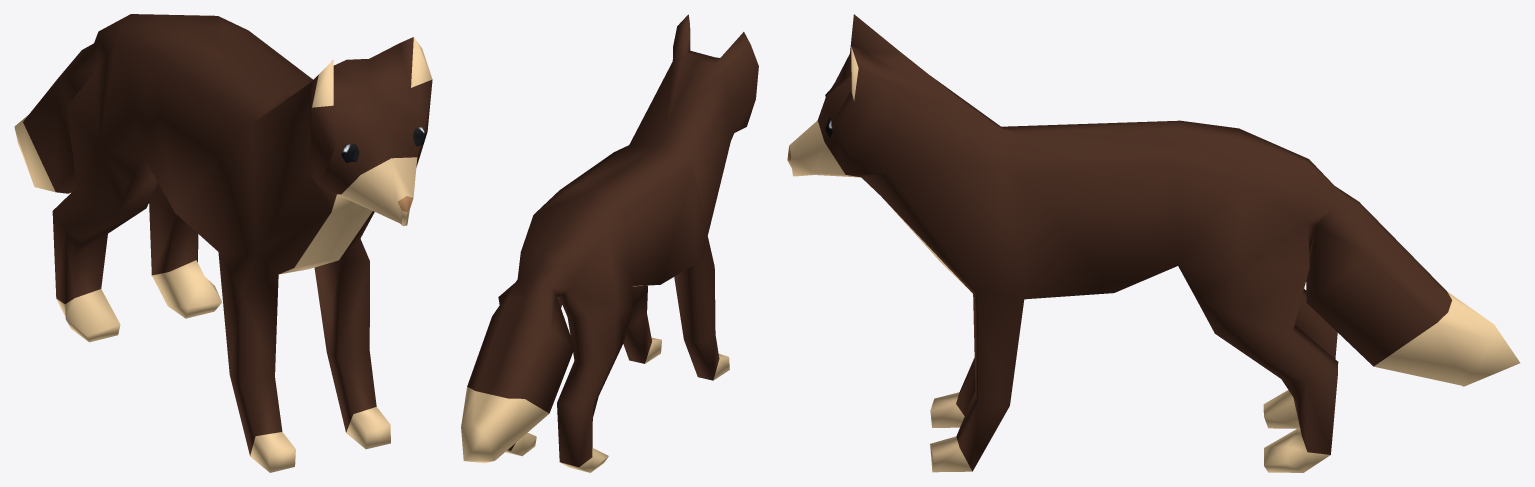
The model's file is Fox02.glb.
3 views of the same model, side by side, from view 1: azimuth 30°, elevation 25°; view 2: azimuth 150°, elevation 25°; view 3: azimuth 270°, elevation 25° (orthographic). The views are drawn at different scales.
Parts seen in each view (by area): view 1: Fox02; view 2: Fox02; view 3: Fox02.
Boxes of the visible parts, x1,y1,x2,y2 form: Fox02: (14,14,432,472); Fox02: (461,14,758,472); Fox02: (787,14,1520,472).
Size of what is drawn, in the model's own units: 0.2887 by 0.828 by 1.32.
Materials: 1 (1 with a texture image).
